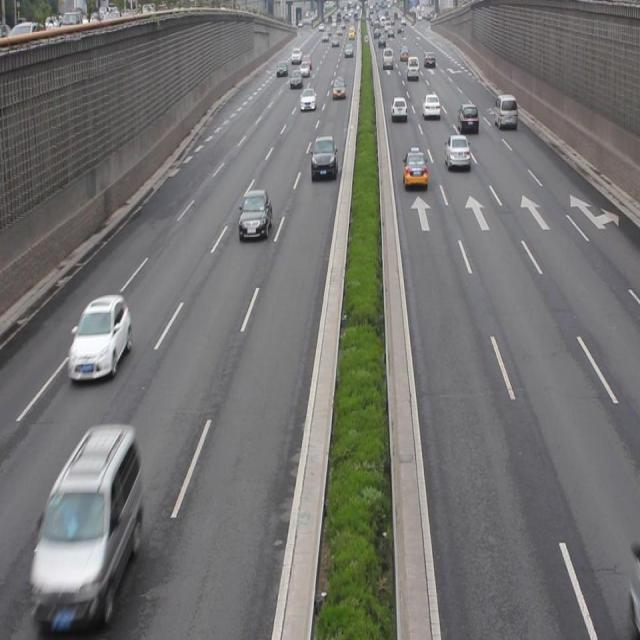car: (67, 294, 131, 383), (237, 188, 272, 241), (310, 135, 337, 180), (403, 149, 428, 190), (445, 134, 470, 172), (457, 102, 479, 134), (422, 92, 440, 119), (391, 95, 408, 122)
truck: (31, 424, 140, 630), (493, 94, 518, 128)
